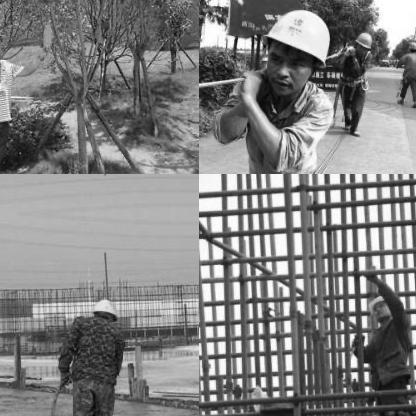Helmet: (251, 0, 338, 99), (365, 290, 397, 324), (88, 295, 119, 327), (350, 28, 372, 54), (0, 20, 7, 58), (405, 37, 415, 54)
